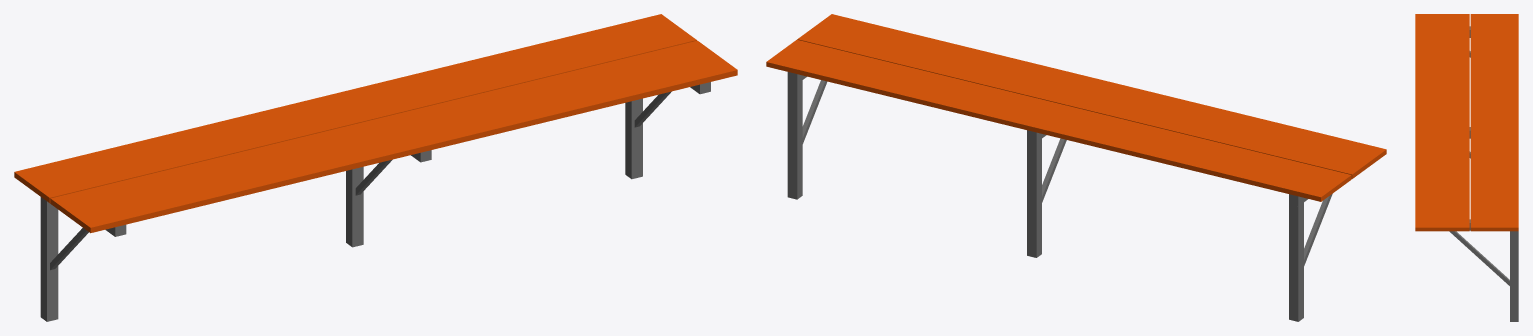
File: Filling.fbx
3 views of the same model, side by side, from view 1: azimuth 30°, elevation 25°; view 2: azimuth 150°, elevation 25°; view 3: azimuth 270°, elevation 25° (orthographic). The views are drawn at different scales.
Parts seen in each view (by area): view 1: Cube.010; view 2: Cube.010; view 3: Cube.010.
Boxes of the visible parts, x1=… form: Cube.010: x1=14, y1=14, x2=737, y2=321; Cube.010: x1=766, y1=14, x2=1386, y2=321; Cube.010: x1=1415, y1=14, x2=1518, y2=321.
Bounding box in the file's own units: 381 × 85.51 × 78.04.
